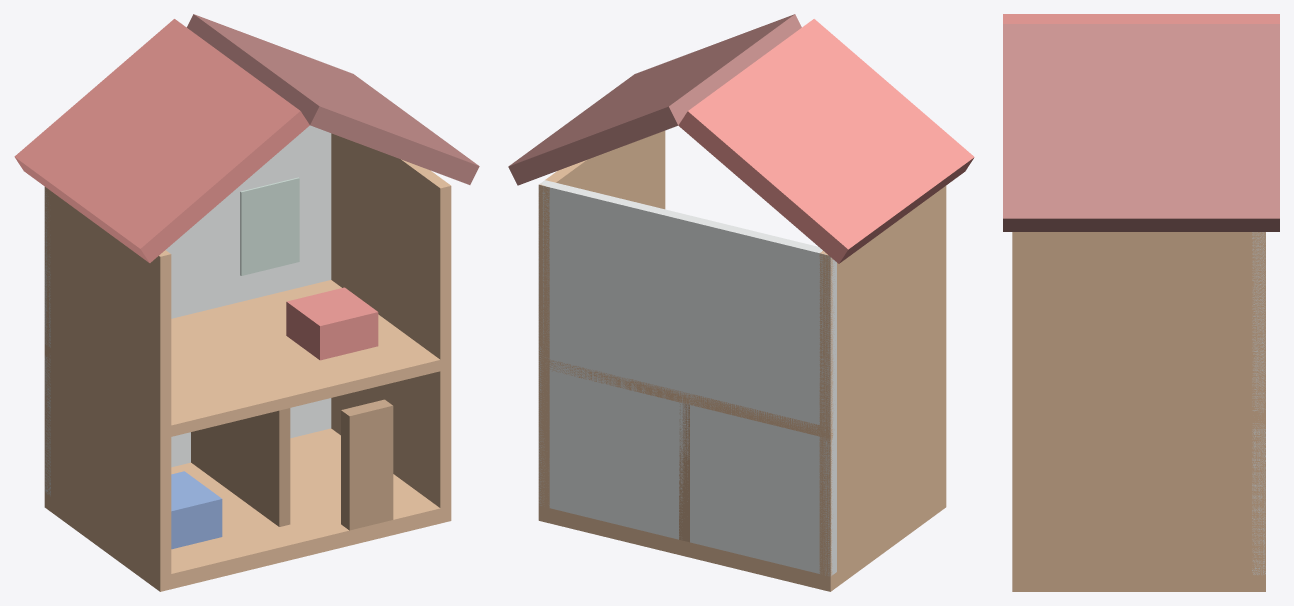
File: dollhouse.glb
3 views of the same model, side by side, from view 1: azimuth 30°, elevation 25°; view 2: azimuth 150°, elevation 25°; view 3: azimuth 270°, elevation 25° (orthographic). The views are drawn at different scales.
Visible parts, largest first — view 1: dollhouse; view 2: dollhouse; view 3: dollhouse.
Part boxes in pixels (x1=…): dollhouse: x1=14, y1=14, x2=479, y2=591; dollhouse: x1=508, y1=14, x2=974, y2=591; dollhouse: x1=1003, y1=14, x2=1279, y2=591.
Size of the model in its own units: 0.466 by 0.592 by 0.3.
